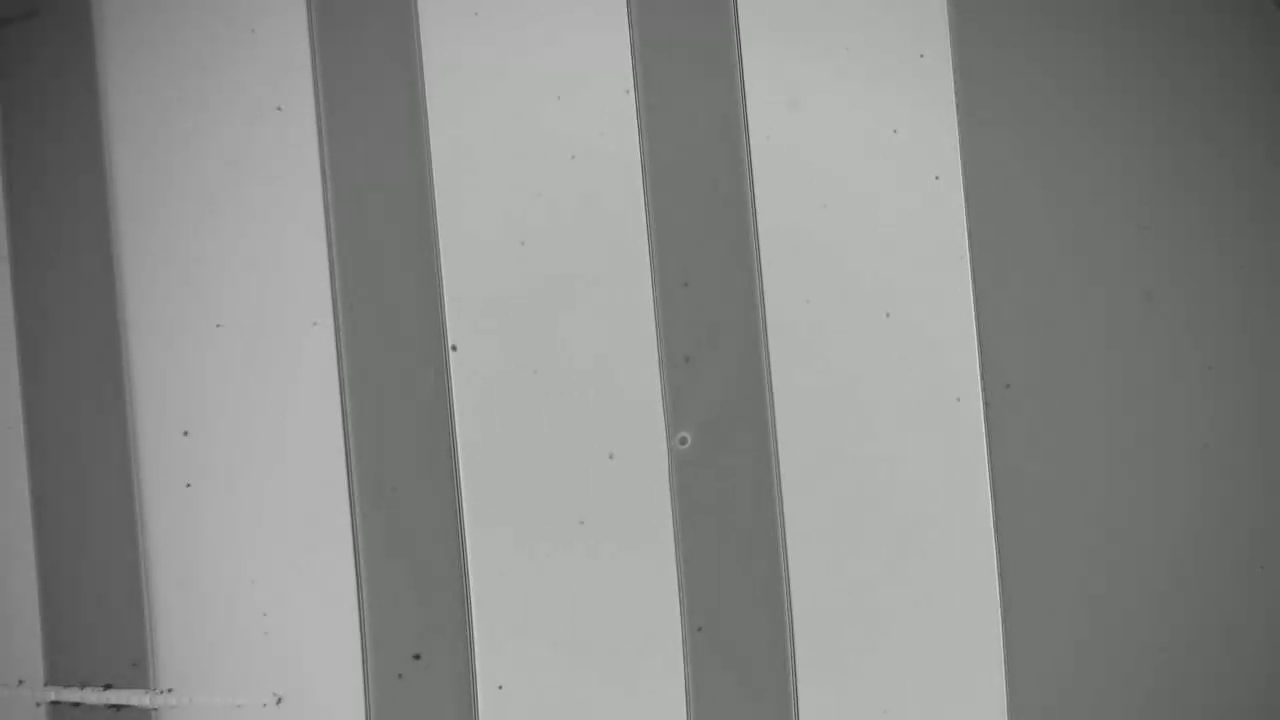Short_circuit: (25, 665, 188, 720)
